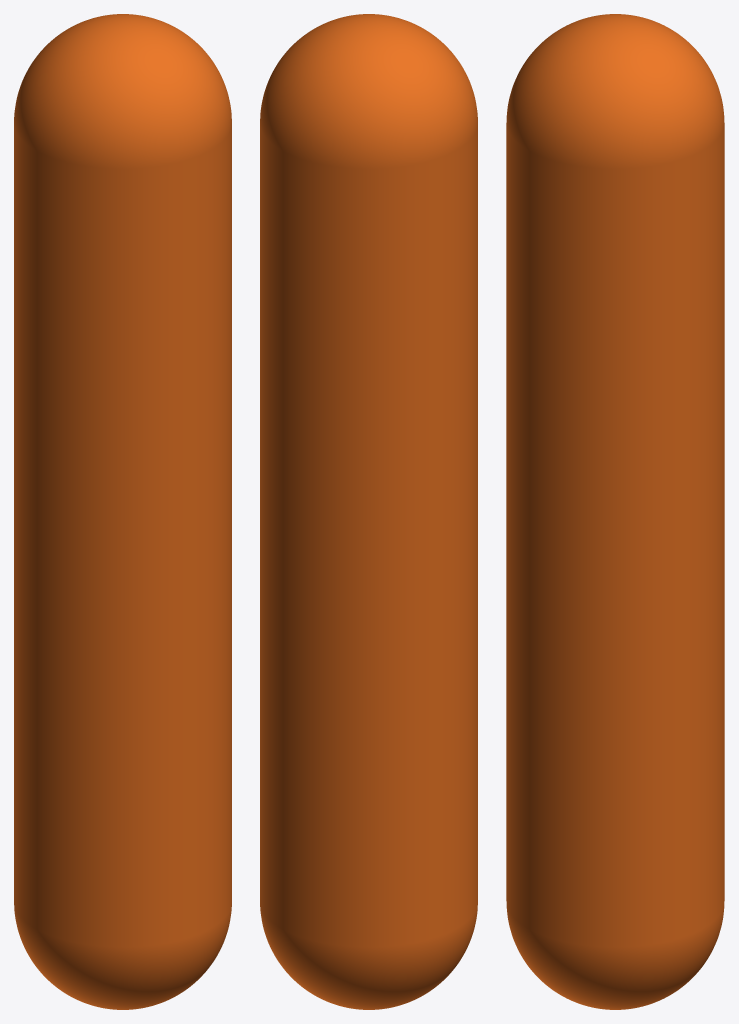
Rendered from indicator.fbx.
The picture shows the model from 3 angles, left to right: view 1: azimuth 30°, elevation 25°; view 2: azimuth 150°, elevation 25°; view 3: azimuth 270°, elevation 25°; orthographic projection.
Visible parts, largest first — view 1: root; view 2: root; view 3: root.
Boxes of the visible parts, box(x1,y1,x2,y2) form: root: box(14, 14, 231, 1009); root: box(260, 14, 477, 1009); root: box(506, 14, 724, 1009).
Size of the model in its own units: 0.0939 by 0.4637 by 0.0939.
1 material, 1 textured.
